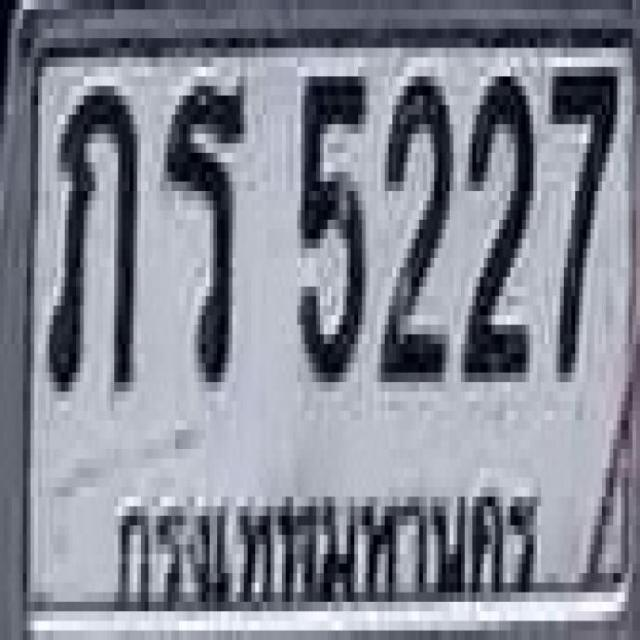2: (459, 67, 530, 373), (378, 66, 447, 373)
5: (295, 67, 363, 374)
7: (546, 59, 615, 372)
A32: (45, 76, 134, 383)
A35: (161, 73, 242, 374)
BKK: (105, 464, 548, 623)
